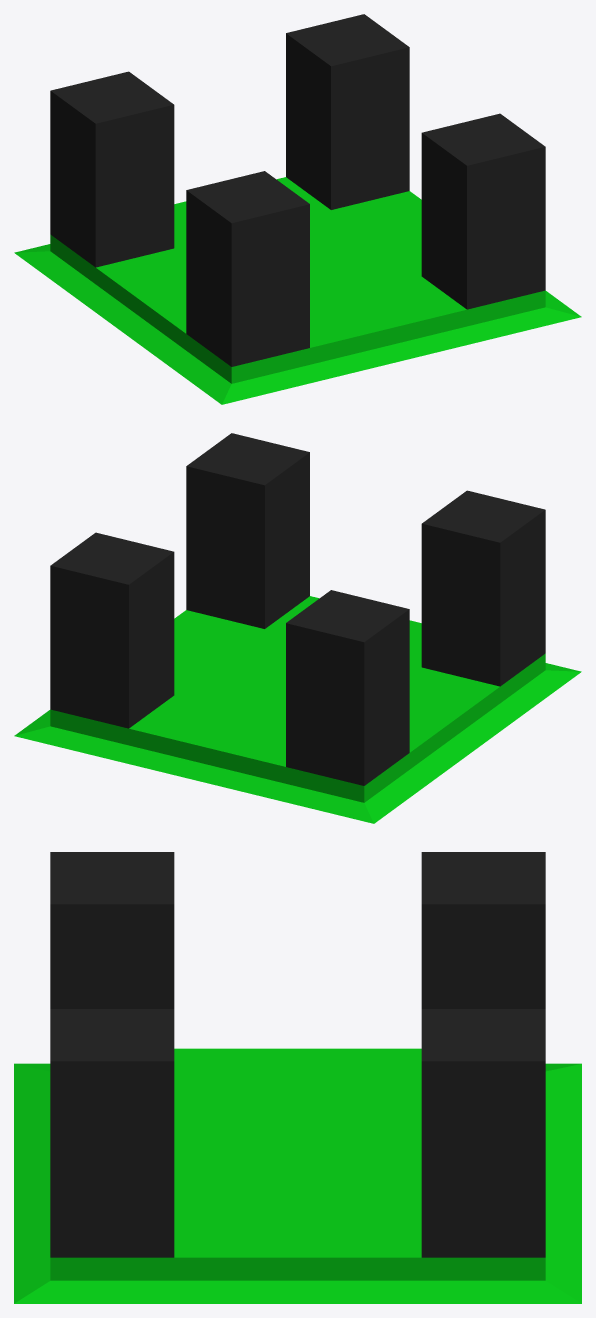
File: desk.fbx
The picture shows the model from 3 angles, top to bottom: view 1: azimuth 30°, elevation 25°; view 2: azimuth 150°, elevation 25°; view 3: azimuth 270°, elevation 25°; orthographic projection. The views are drawn at different scales.
Visible parts, largest first — view 1: Cube; view 2: Cube; view 3: Cube.
Part boxes in pixels (<box>): Cube: <box>14,14,581,404</box>; Cube: <box>14,433,581,823</box>; Cube: <box>14,852,581,1303</box>.
Bounding box in the file's own units: 229 × 101 × 229.
